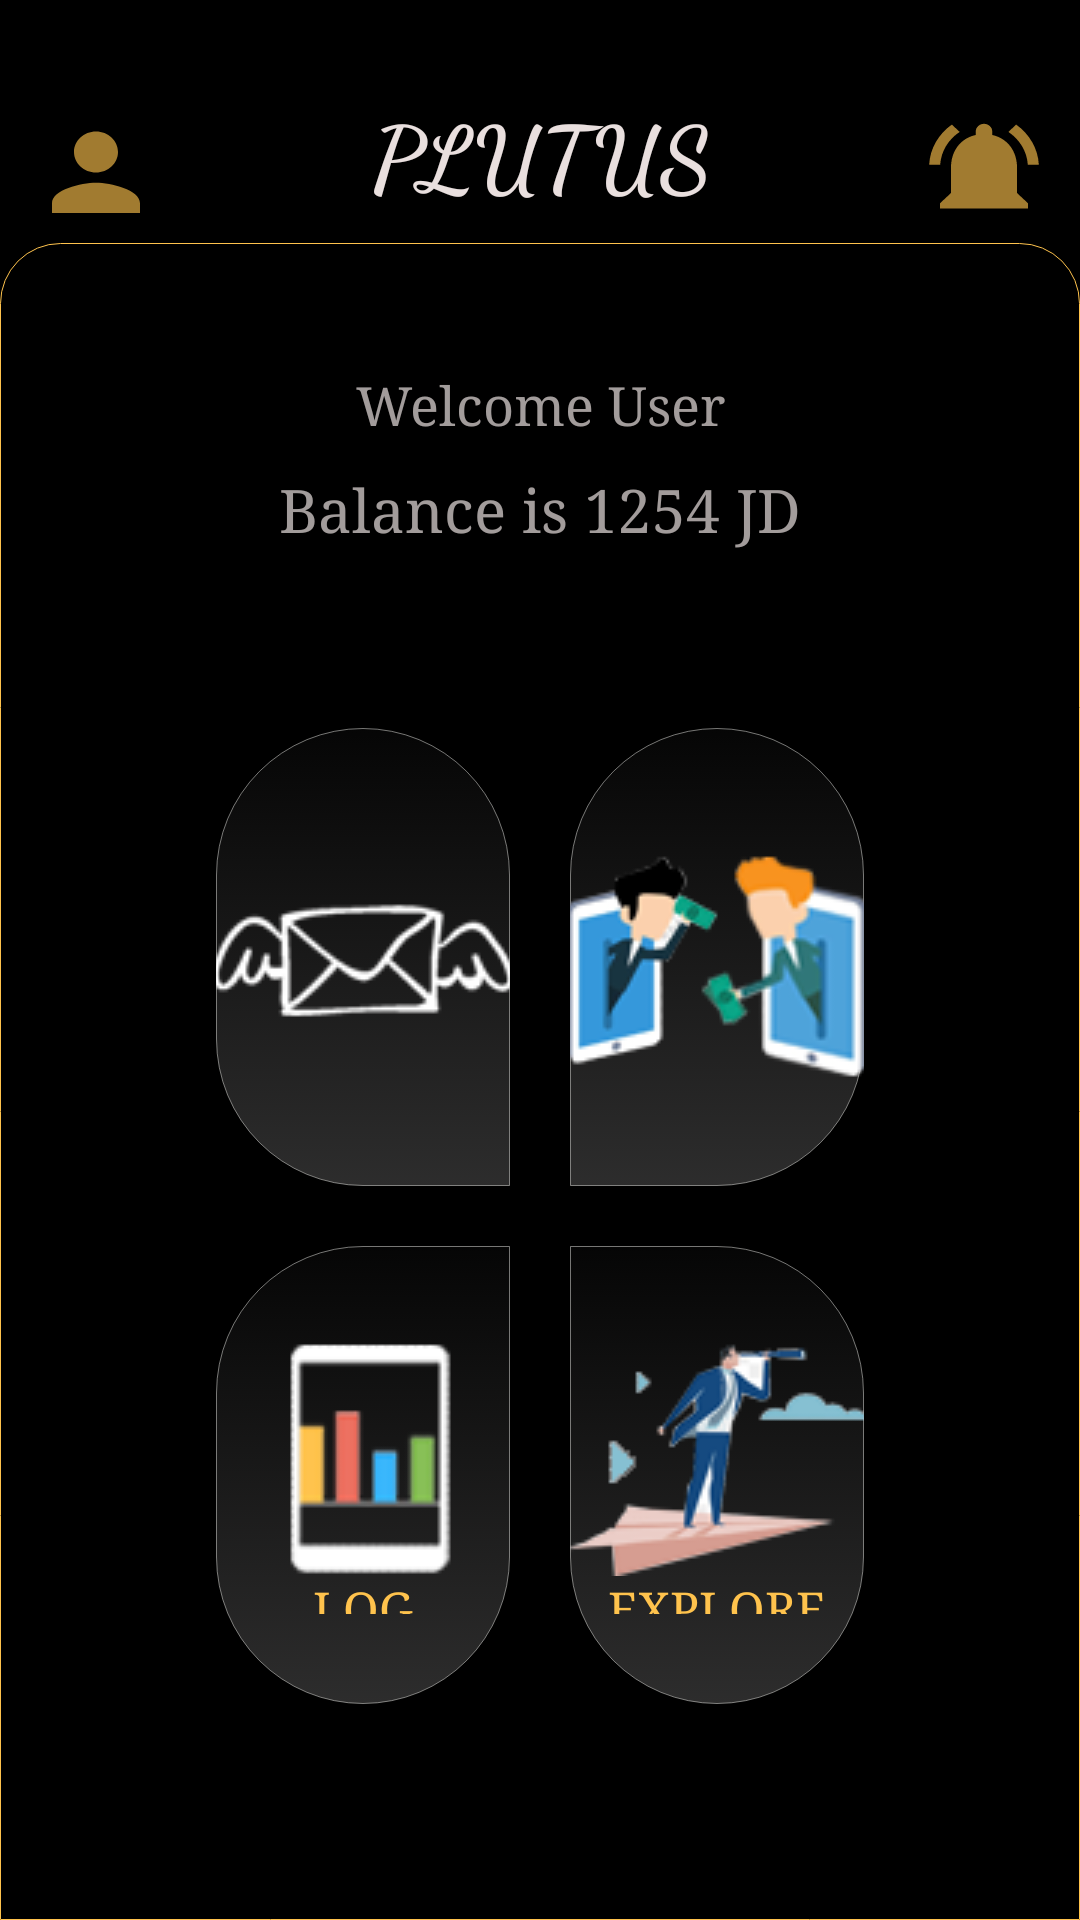

Named icons in this screenshot (1080×1920) and their bounding boxes, (x1, y1, x2, y2):
notifications: (929, 123, 1039, 209)
person: (52, 131, 140, 213)
